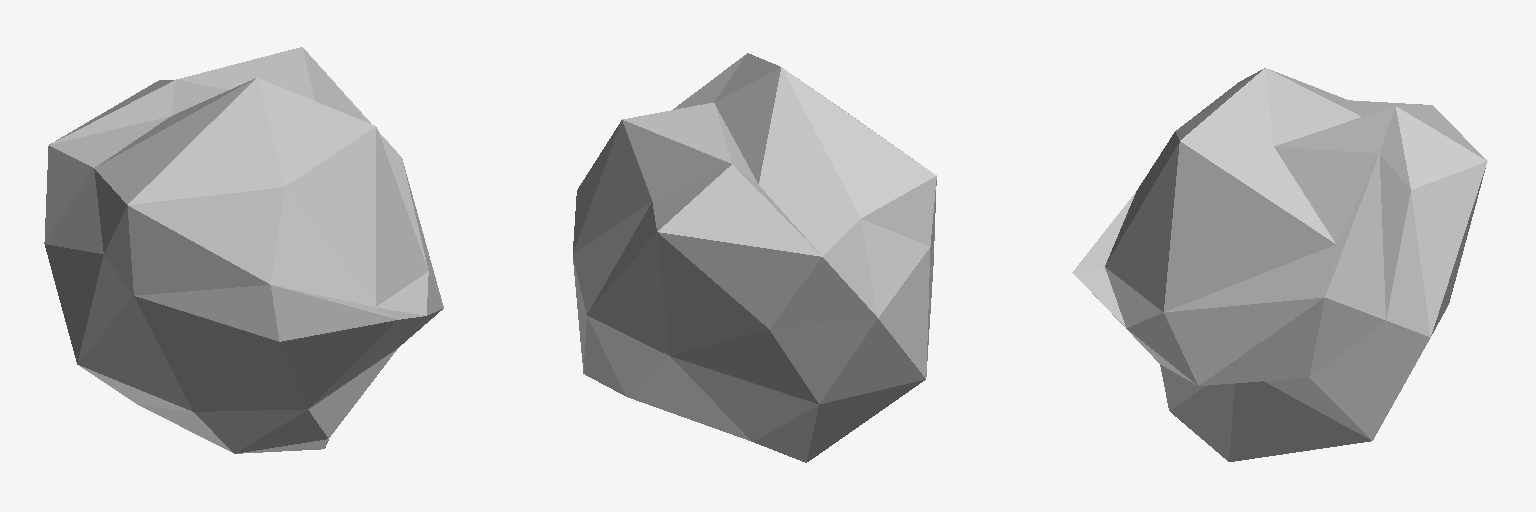
File: pebble.obj
3 renders of one model, left to right at view 1: azimuth 30°, elevation 25°; view 2: azimuth 150°, elevation 25°; view 3: azimuth 270°, elevation 25°, orthographic.
Parts seen in each view (by area): view 1: Suzanne; view 2: Suzanne; view 3: Suzanne.
Part boxes in pixels (x1,y1,x2,y2): Suzanne: (44,47,443,453); Suzanne: (573,53,936,462); Suzanne: (1072,68,1487,461).
Size of the model in its own units: 0.6754 by 0.7092 by 0.7203.